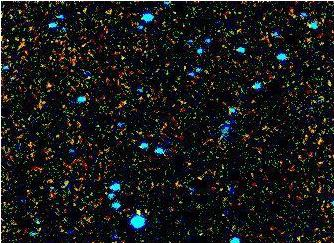star: (124, 197, 154, 227)
